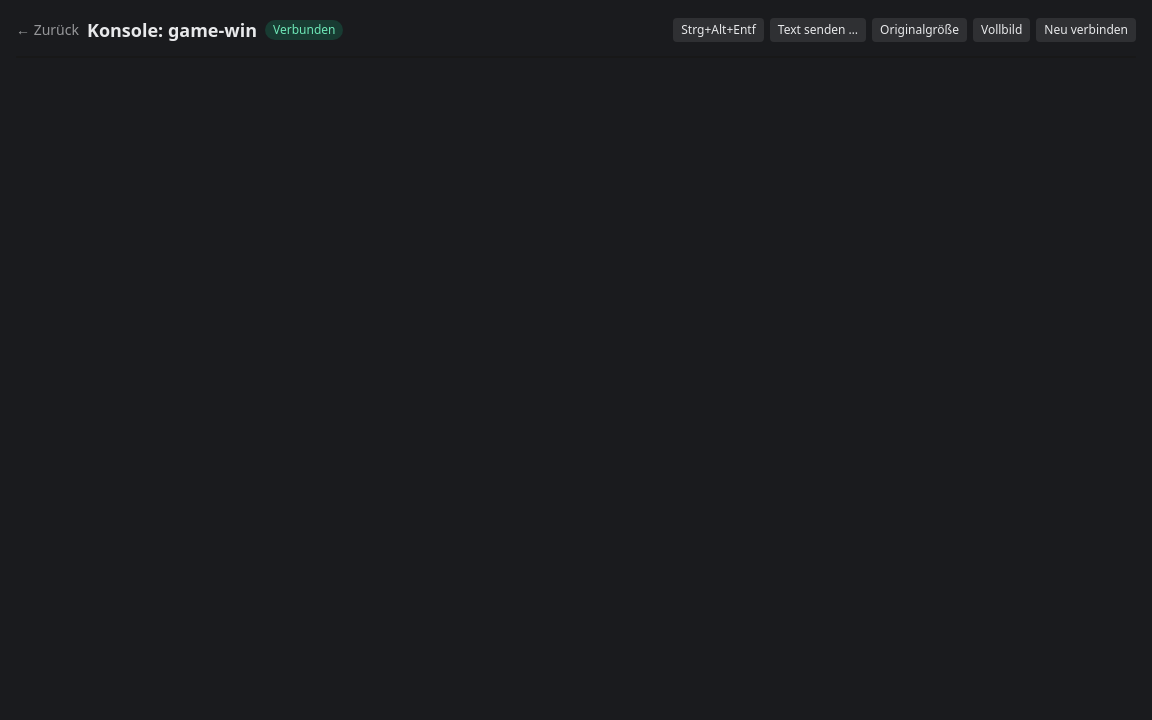
Test: ConsolePage › Text senden: tippt den Text als Tastendruecke im gewaehlten Layout
The width and height of the screenshot is (1152, 720).
Click the button "Text senden …".
click(818, 30)  # box [770,18,866,42]
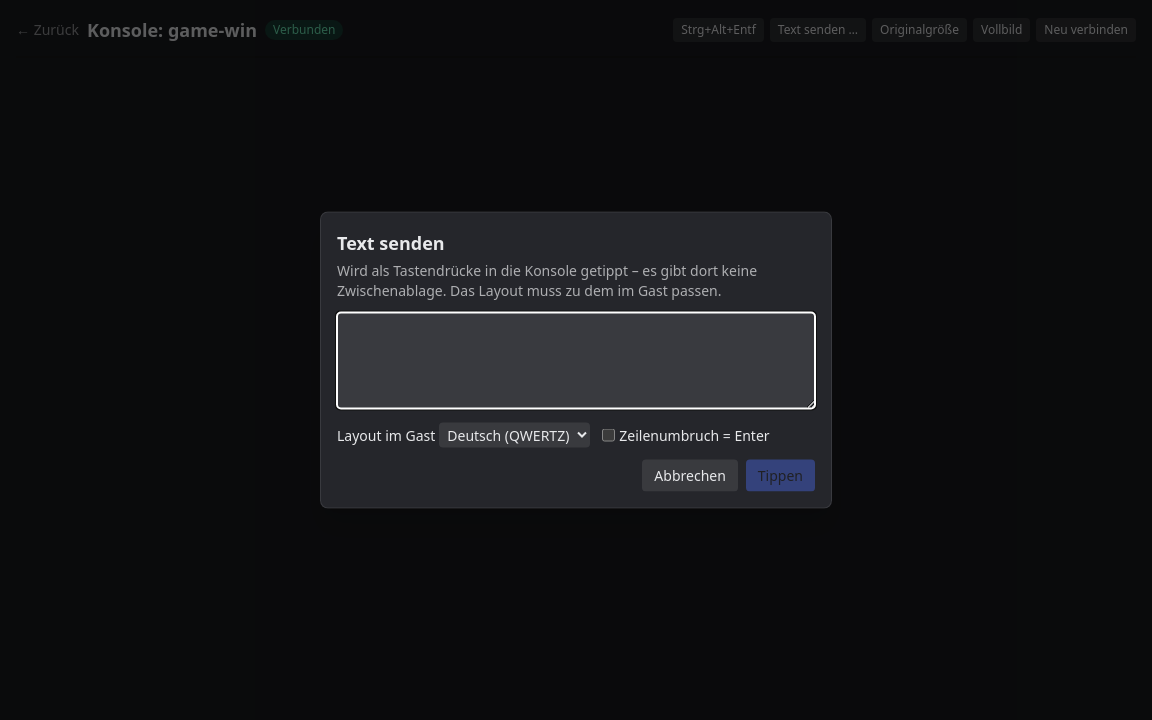
Type "zY" into the text box named "Zu sendender Text".
click(576, 360); type("zY")  # box [337,312,815,408]
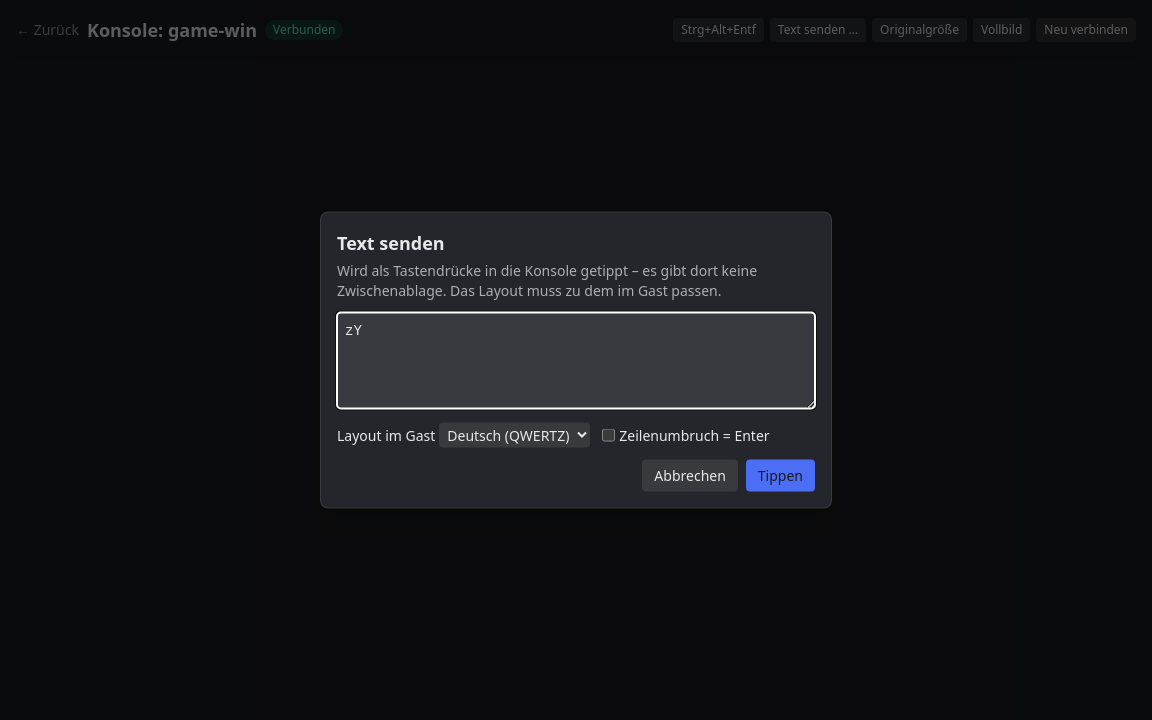
Click the button "Tippen".
click(780, 476)  # box [746,460,815,492]
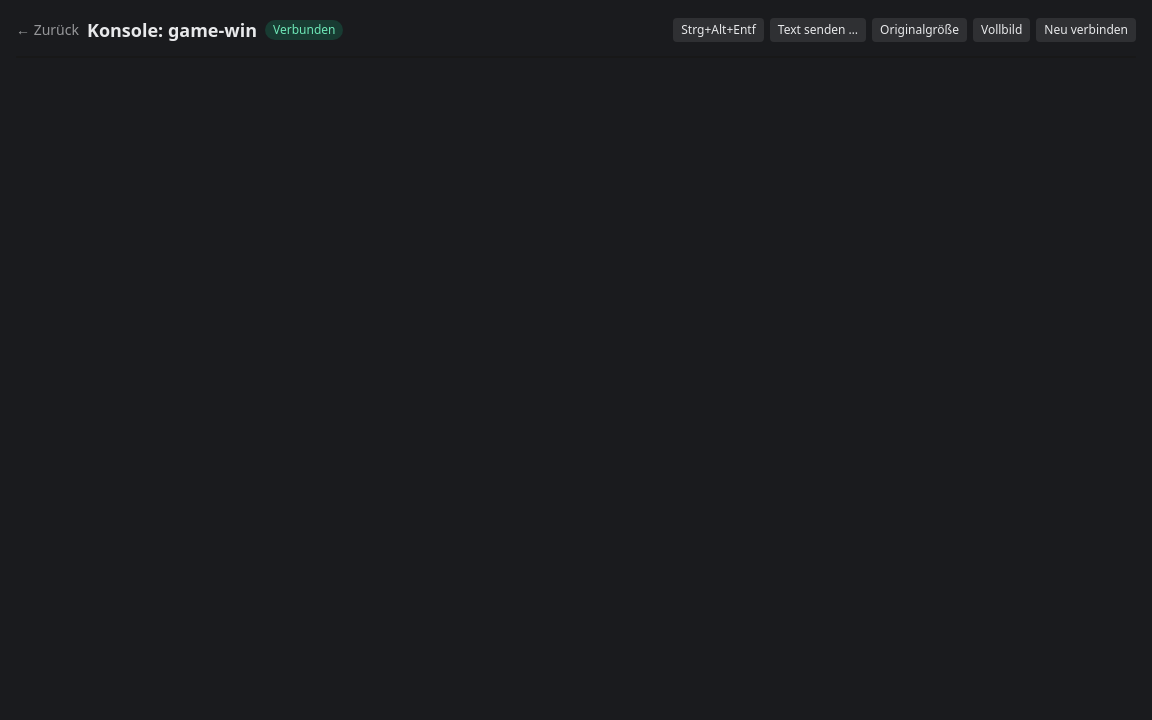
expect the dialog is gone: met
